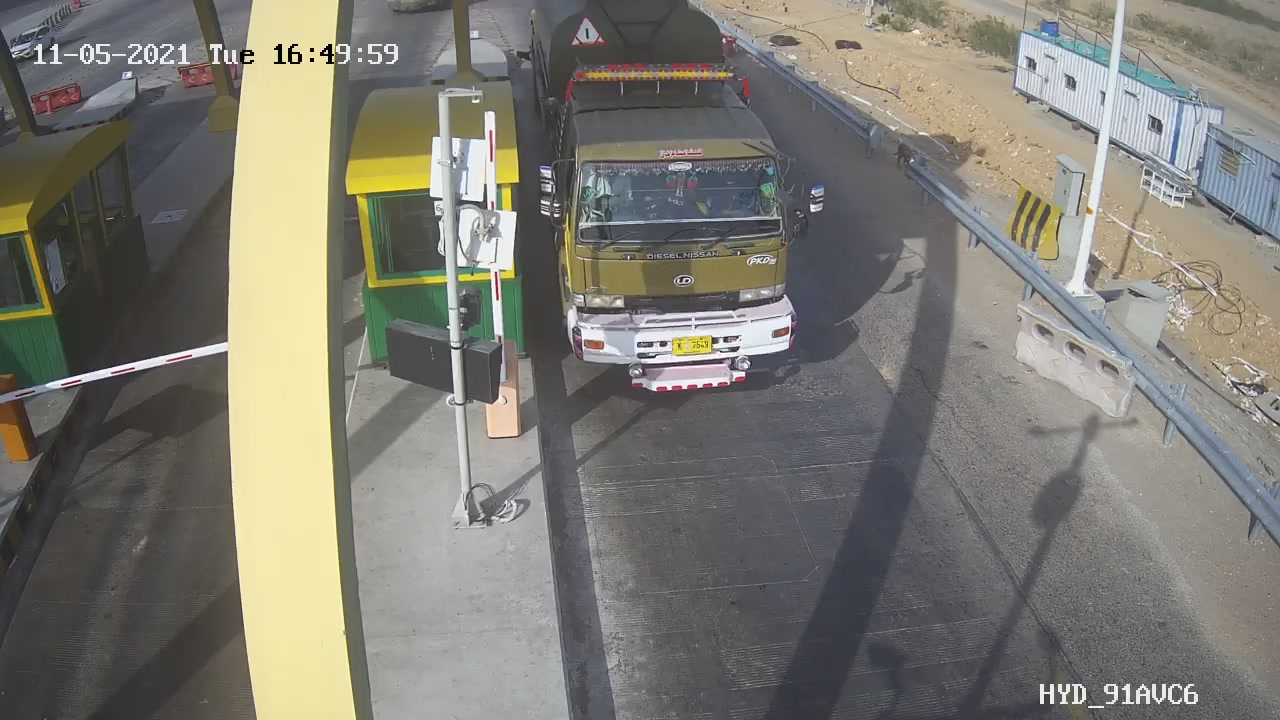F6: (508, 3, 859, 417)
